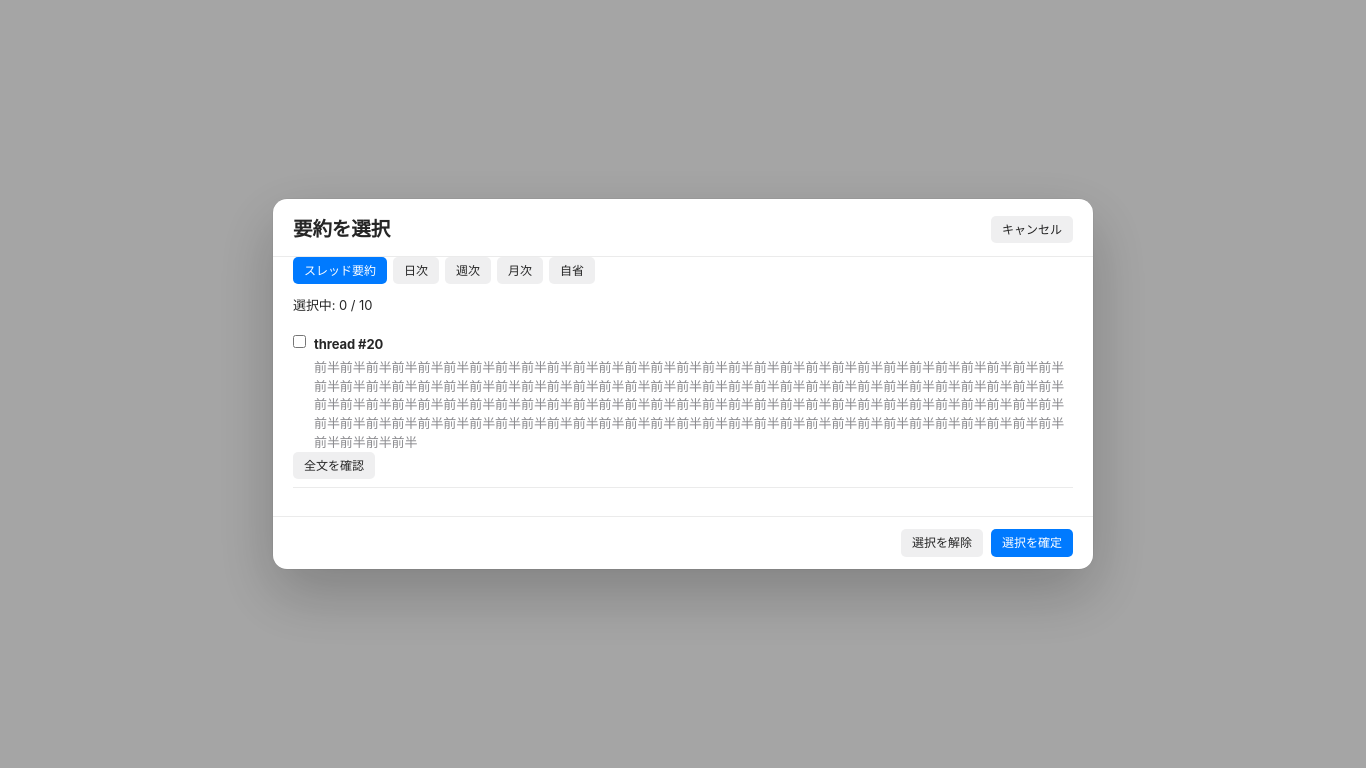
Scenario: SummarySelectionModal › shows the complete summary separately from the selection checkbox
This screenshot has width=1366, height=768.
Check: the text "thread #20" is shown, box [314,336,383,352]
Click the button "全文を確認": (334, 466) [293,452,375,479]
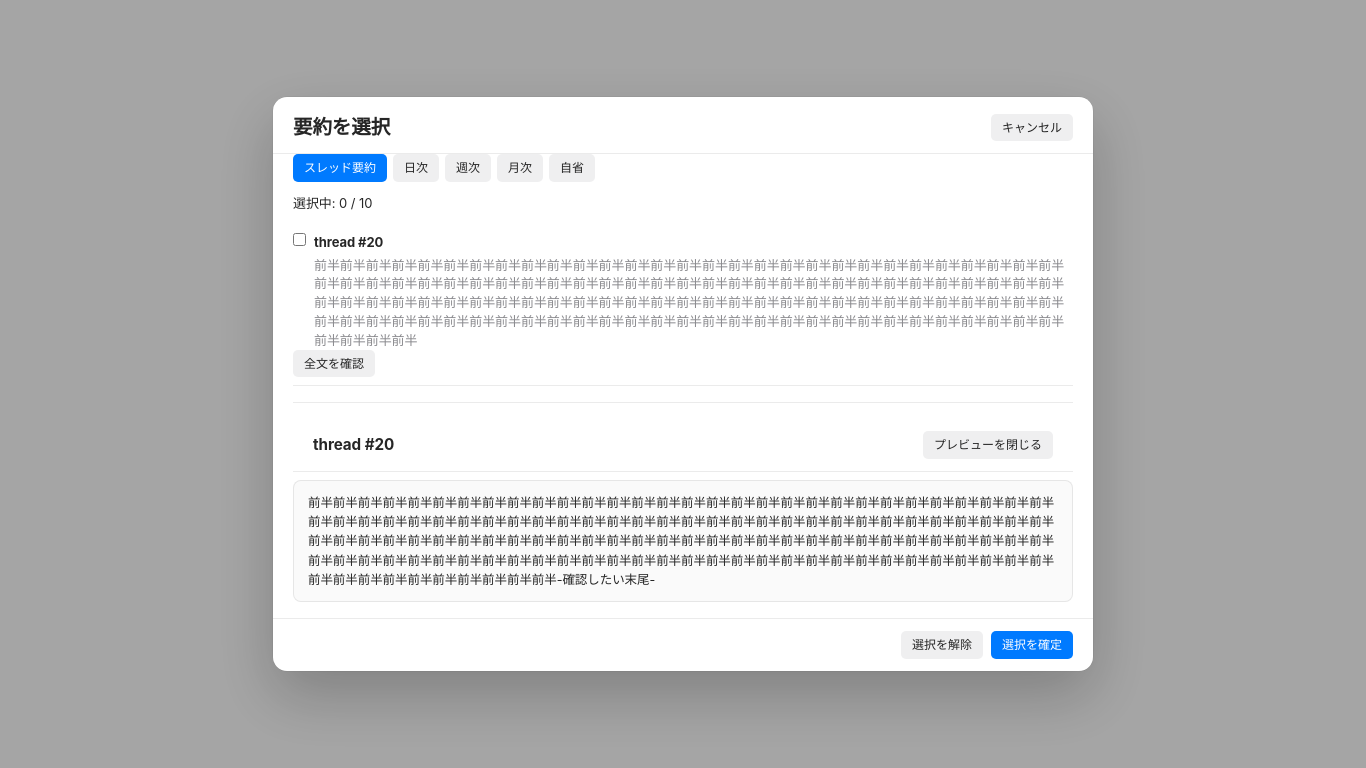
Check: the checkbox is not checked, box [293,233,306,246]
Check: the text "確認したい末尾" is shown, box [308,494,1054,587]
